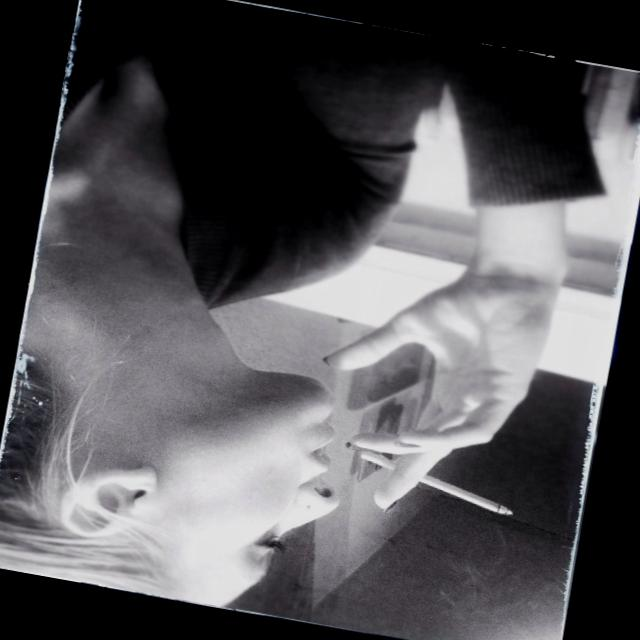smoke: (340, 437, 527, 524)
